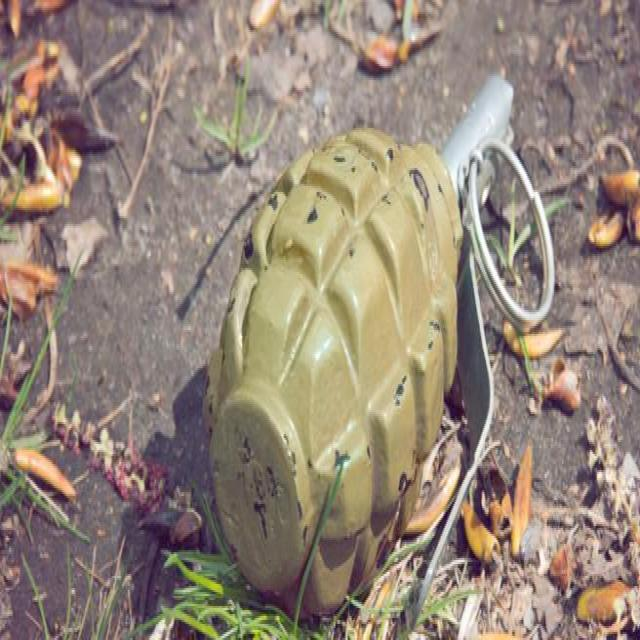grenade: (203, 77, 555, 625)
